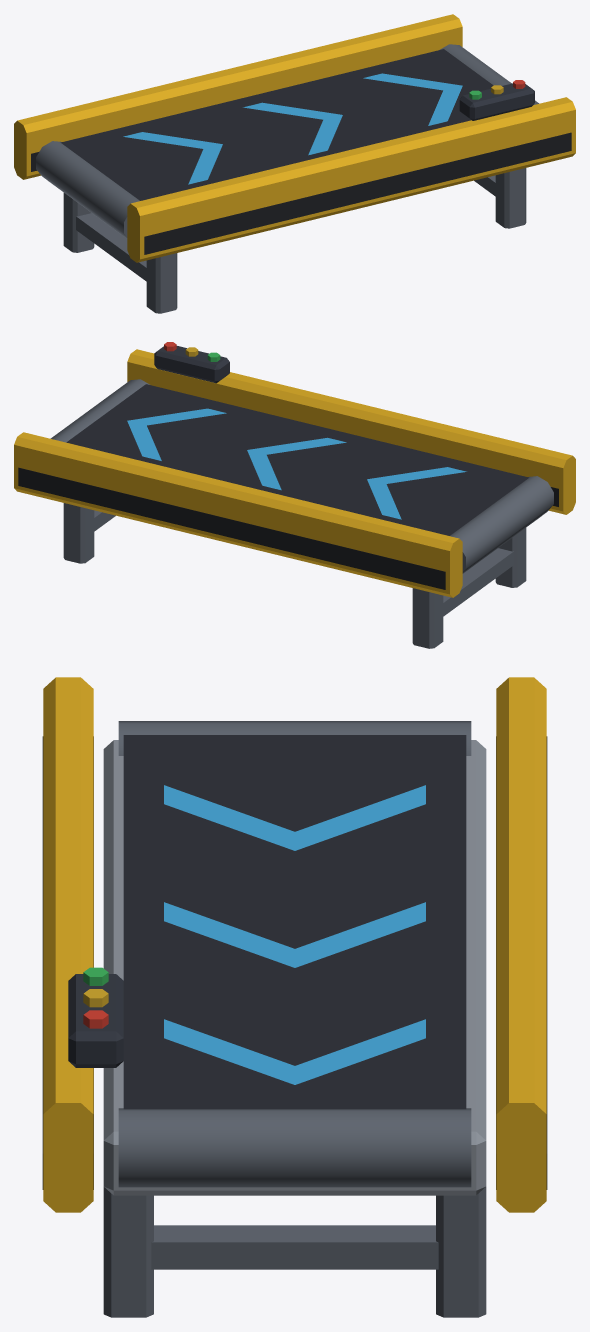
The model's file is toy-prop1.glb.
The picture shows the model from 3 angles, top to bottom: view 1: azimuth 30°, elevation 25°; view 2: azimuth 150°, elevation 25°; view 3: azimuth 270°, elevation 25°; orthographic projection. The views are drawn at different scales.
Parts seen in each view (by area): view 1: toy-prop1; view 2: toy-prop1; view 3: toy-prop1.
Part boxes in pixels (x1=…): toy-prop1: x1=14, y1=14, x2=575, y2=313; toy-prop1: x1=14, y1=342, x2=575, y2=648; toy-prop1: x1=42, y1=677, x2=547, y2=1317.
Size of the model in its own units: 2 by 0.64 by 1.
